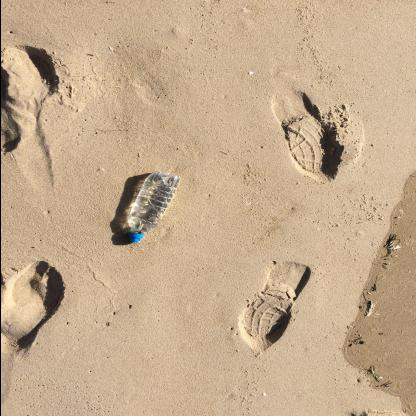plastik: (126, 172, 180, 244)
